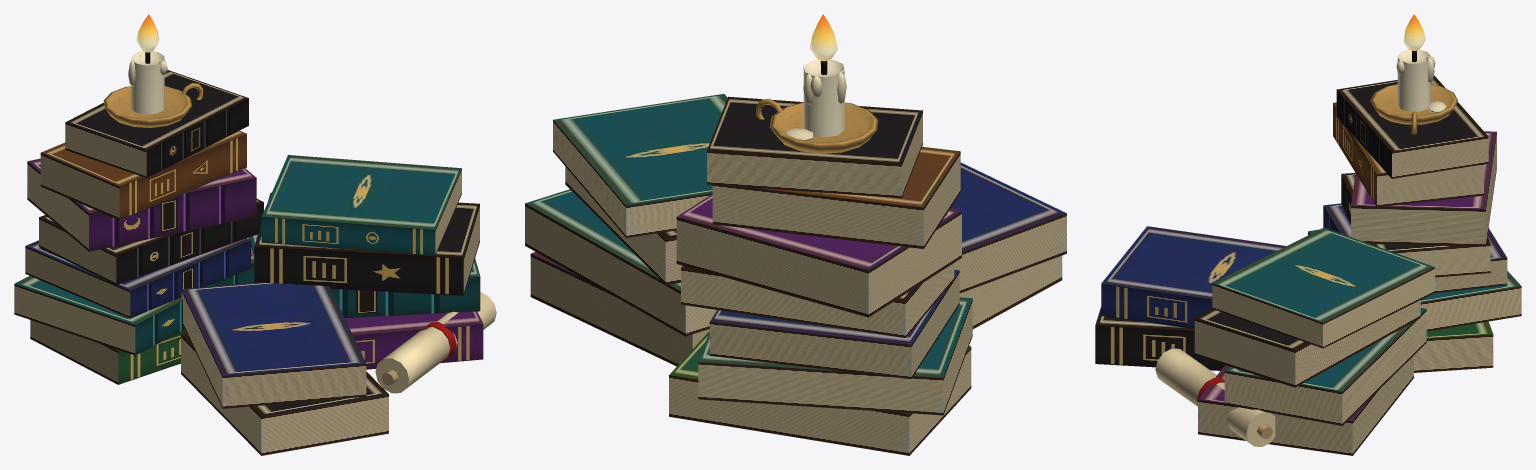
Rendered from prop_bookPile.glb.
3 views of the same model, side by side, from view 1: azimuth 30°, elevation 25°; view 2: azimuth 150°, elevation 25°; view 3: azimuth 270°, elevation 25° (orthographic). The views are drawn at different scales.
Parts seen in each view (by area): view 1: prop; view 2: prop; view 3: prop.
Boxes of the visible parts, bbox=[...] form: prop: bbox=[14, 14, 496, 455]; prop: bbox=[525, 14, 1066, 455]; prop: bbox=[1095, 14, 1521, 455].
Size of the model in its own units: 0.5909 by 0.4556 by 0.5623.
Materials: 7 (5 with a texture image).
